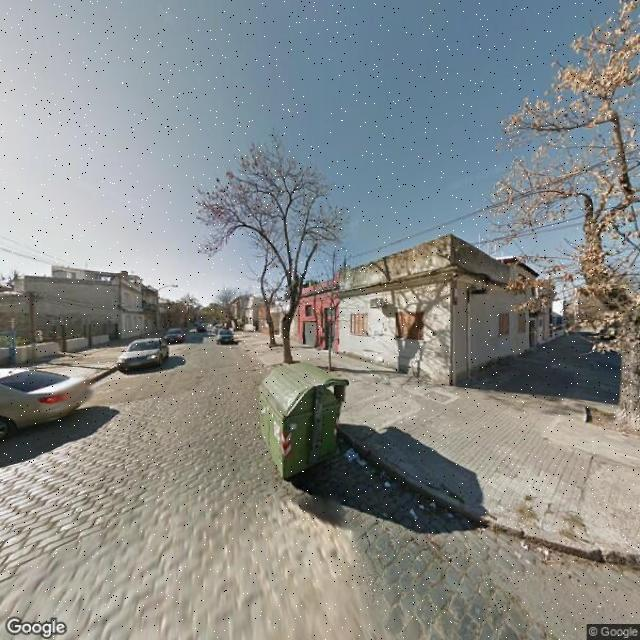garbage container: (250, 359, 371, 496)
